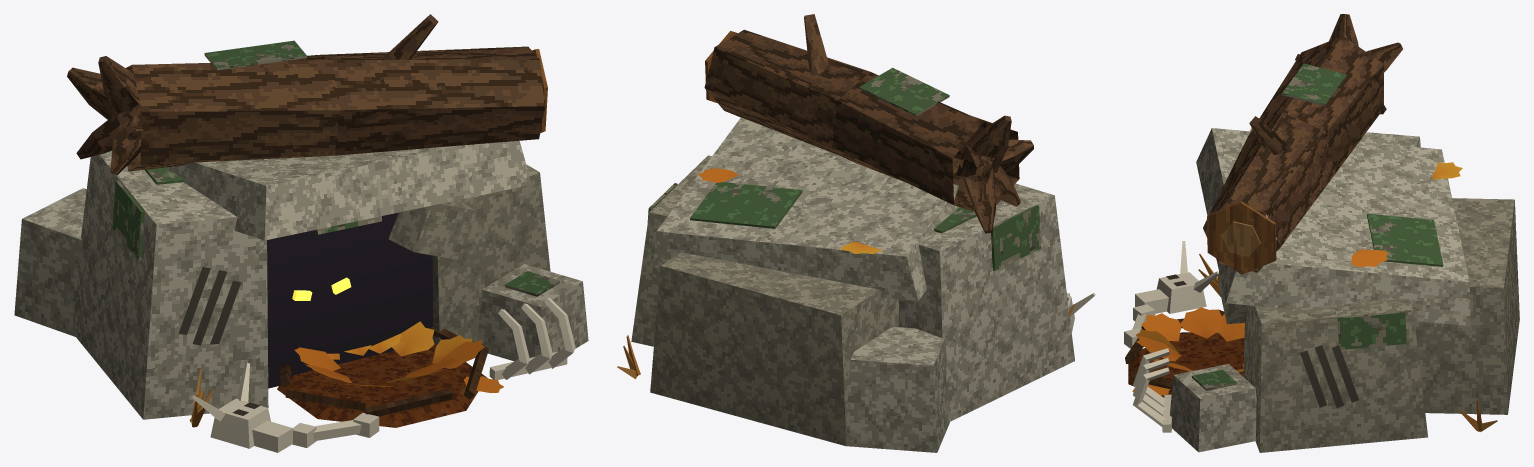
The model's file is beast_den.glb.
3 views of the same model, side by side, from view 1: azimuth 30°, elevation 25°; view 2: azimuth 150°, elevation 25°; view 3: azimuth 270°, elevation 25° (orthographic). The views are drawn at different scales.
Parts seen in each view (by area): view 1: beast_den; view 2: beast_den; view 3: beast_den.
Boxes of the visible parts, x1,y1,x2,y2 form: beast_den: (14,14,588,452); beast_den: (617,14,1095,452); beast_den: (1124,14,1519,452).
Bounding box in the file's own units: 3.66 × 2.8 × 3.49.
17 materials, 8 textured.
